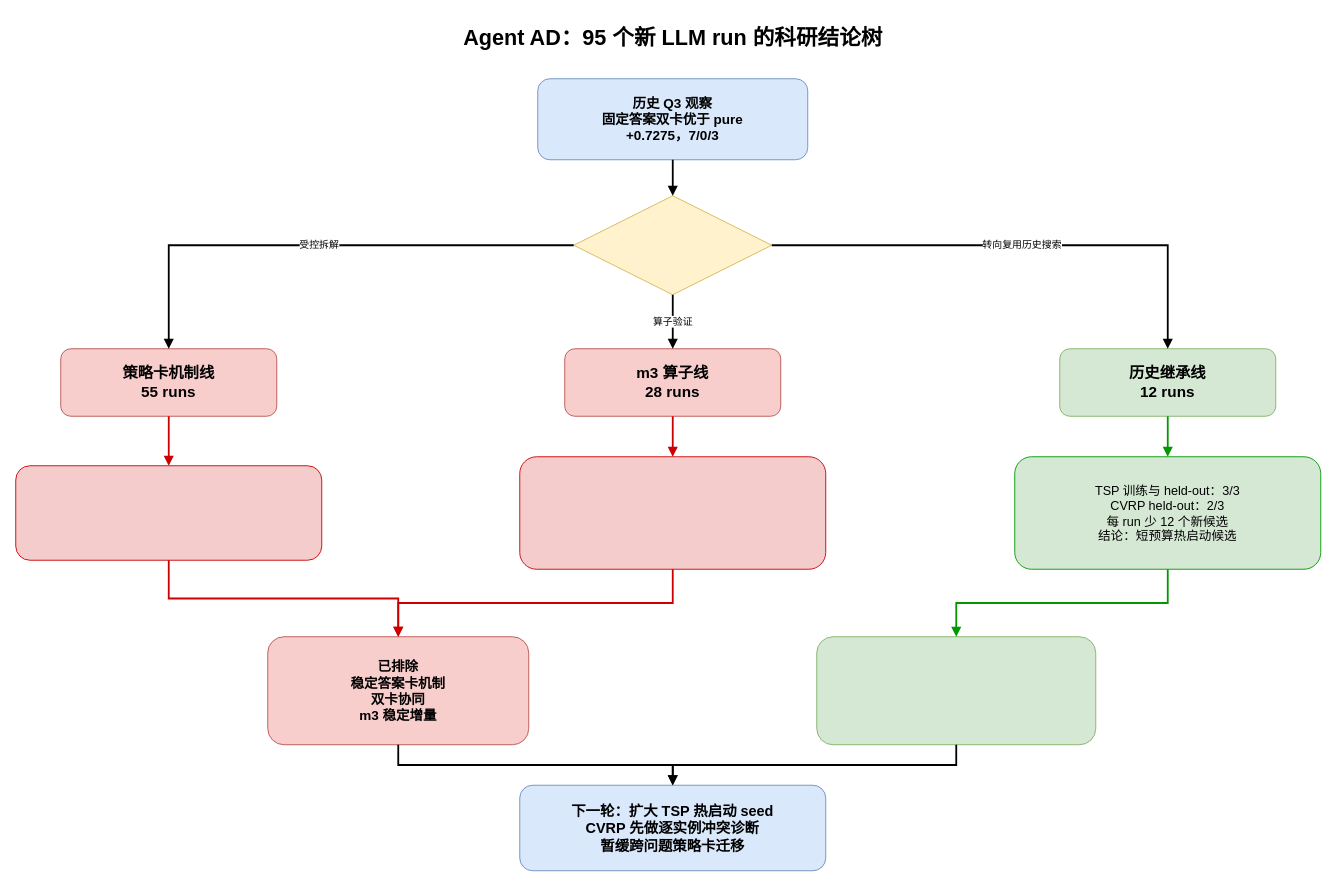
Image size: 1337x887. Some labels were removed from this diagram. Each missing label, with the centre of its shape:
"H+R 对 harmonic：0/0/5 融合语义确认：5/2/3 结论：语义机制未复现" belongs at point 168,512.
"优势来自稳定机制吗？" belongs at point 672,245.
"当前最强候选 TSP 历史 top-6 热启动 短预算双指标 3/3 改善" belongs at point 956,690.
"浅预算 TSP 一度为正 深预算训练：1/0/4 Core-7：2/0/3 结论：三问题均排除 m3" belongs at point 672,512.
